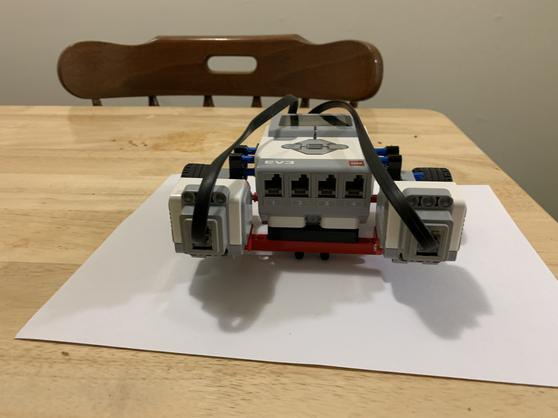robot: (161, 84, 473, 273)
